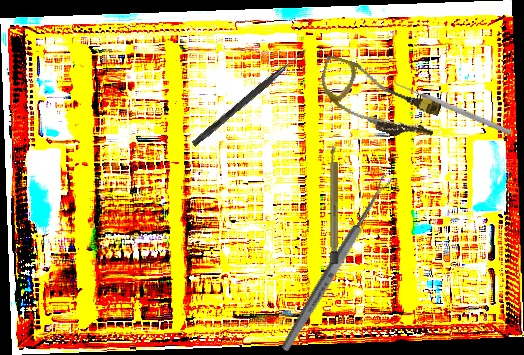Cannula: (311, 54, 446, 146)
Hook Surgical: (191, 45, 308, 149)
Pusher: (393, 79, 513, 137)
Scalpel Handle: (330, 144, 339, 265)
Surgical Spoon: (278, 173, 395, 353)
